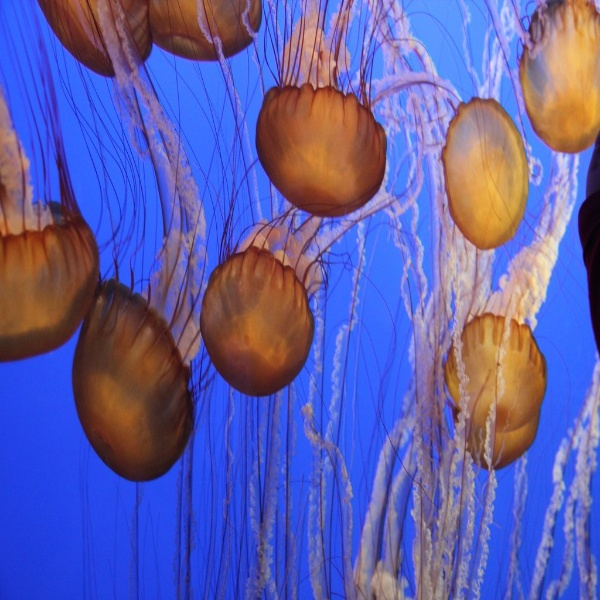Jellyfish: (198, 122, 422, 400), (70, 0, 195, 482), (442, 145, 571, 473), (0, 0, 104, 368), (254, 0, 395, 218), (441, 98, 534, 253), (514, 0, 598, 160), (36, 0, 151, 76), (148, 0, 264, 59)
